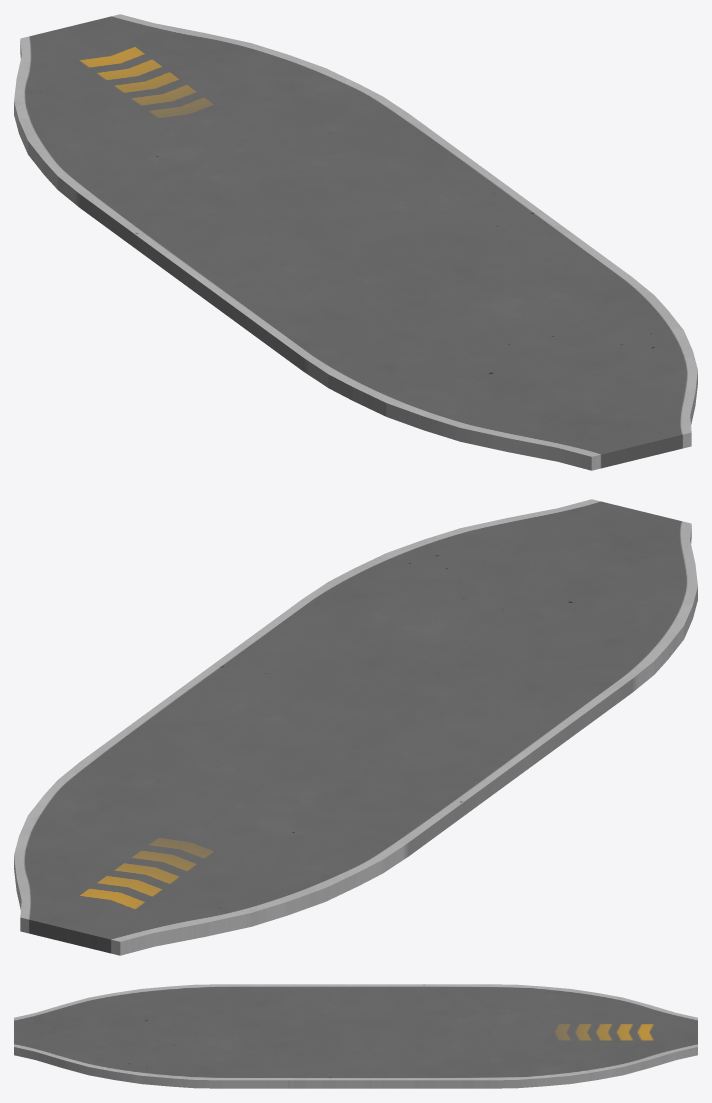
Rendered from FinishRoad.fbx.
The picture shows the model from 3 angles, top to bottom: view 1: azimuth 30°, elevation 25°; view 2: azimuth 150°, elevation 25°; view 3: azimuth 270°, elevation 25°; orthographic projection. The views are drawn at different scales.
Parts seen in each view (by area): view 1: StraightRoadMedium11; view 2: StraightRoadMedium11; view 3: StraightRoadMedium11.
Part boxes in pixels (box(x1,y1,x2,y2)): StraightRoadMedium11: box(14, 14, 697, 470); StraightRoadMedium11: box(14, 499, 697, 955); StraightRoadMedium11: box(14, 984, 697, 1088).
Size of the model in its own units: 4.94 by 0.1993 by 14.86.
1 material, 1 textured.
